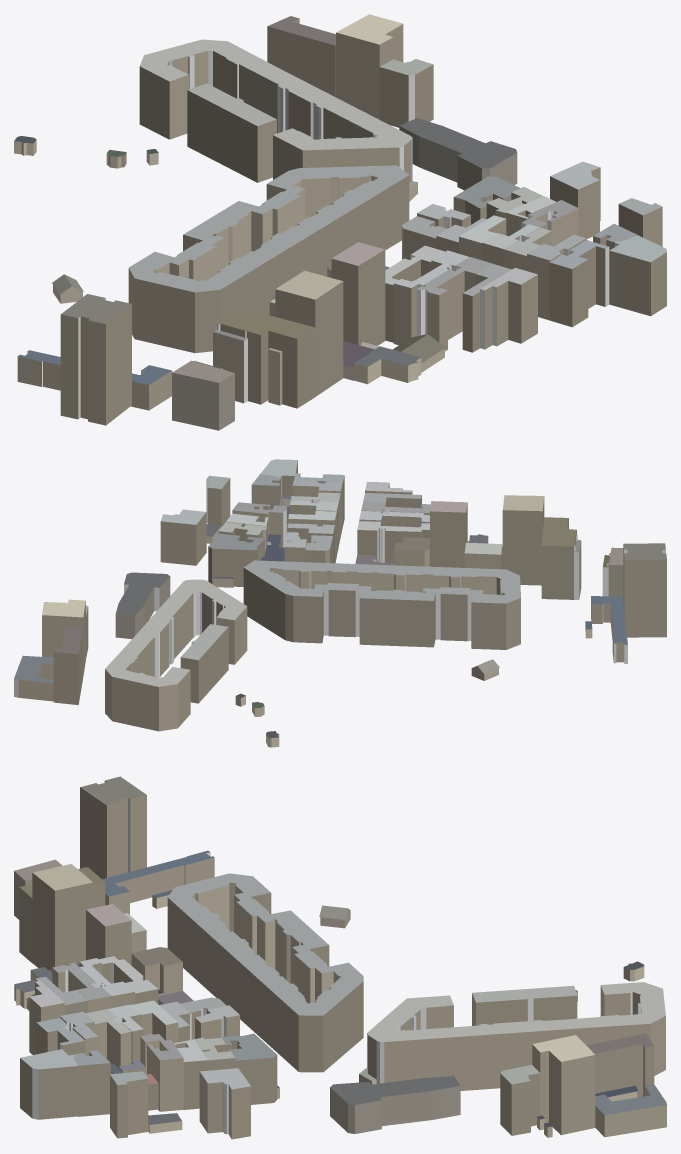
The picture shows the model from 3 angles, top to bottom: view 1: azimuth 30°, elevation 25°; view 2: azimuth 150°, elevation 25°; view 3: azimuth 270°, elevation 25°; orthographic projection. The views are drawn at different scales.
Visible parts, largest first — view 1: tuile; view 2: tuile; view 3: tuile.
Boxes of the visible parts, bbox=[...] form: tuile: bbox=[14, 14, 666, 430]; tuile: bbox=[14, 459, 666, 747]; tuile: bbox=[14, 776, 666, 1139].
Size of the model in its own units: 263 by 43.27 by 266.
